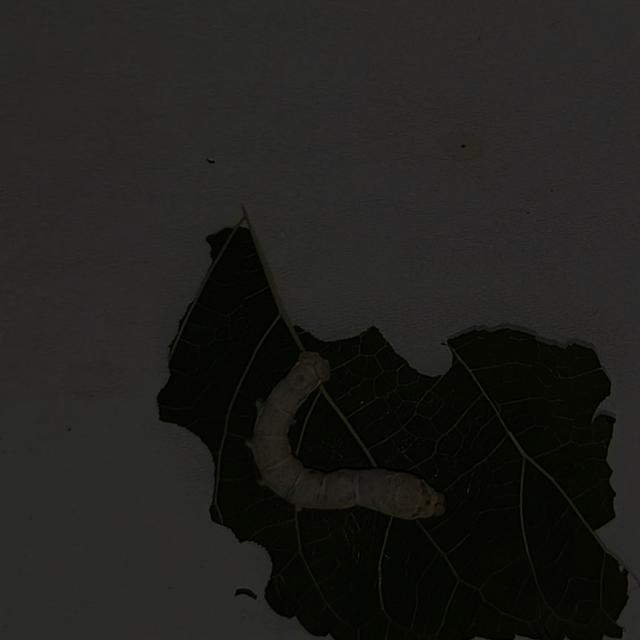Healthy: (243, 340, 456, 534)
